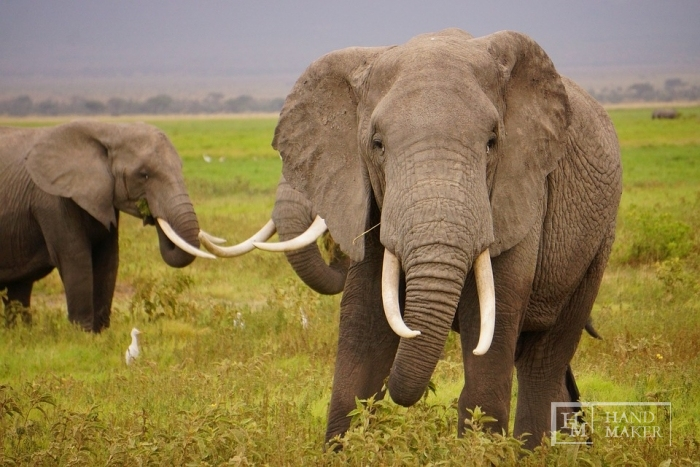Elephant: (260, 31, 654, 455)
